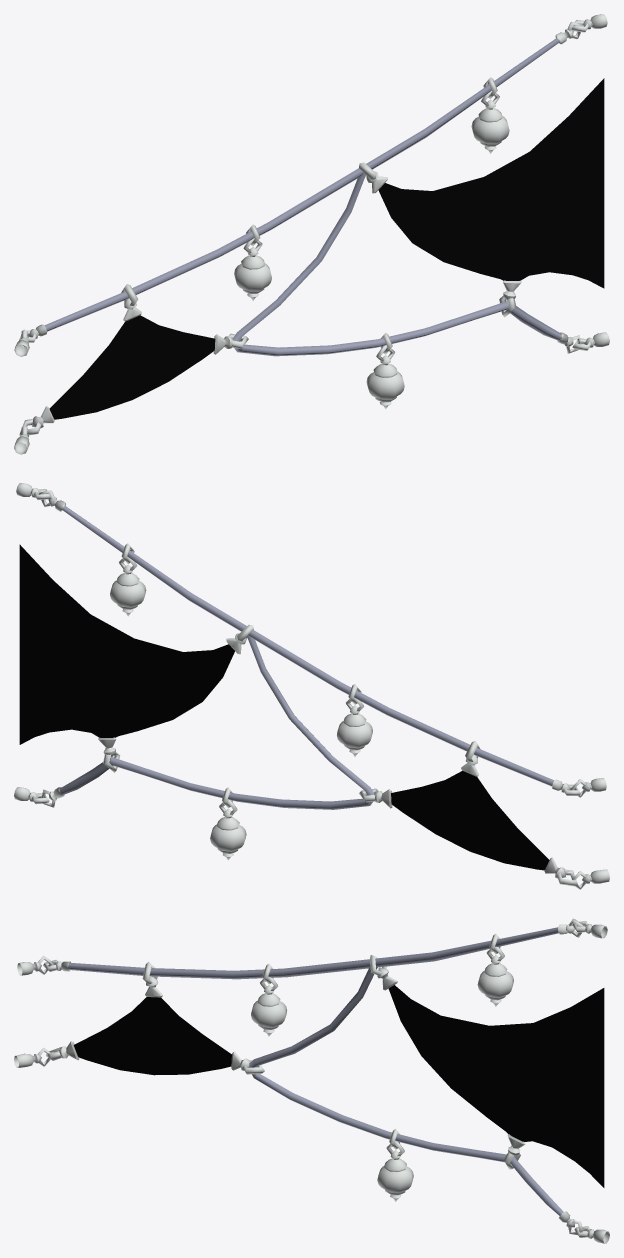
The picture shows the model from 3 angles, top to bottom: view 1: azimuth 30°, elevation 25°; view 2: azimuth 150°, elevation 25°; view 3: azimuth 330°, elevation 25°; orthographic projection. The views are drawn at different scales.
Visible parts, largest first — view 1: G:\FFXIV-MapTools\exports\m5f1\bg\ex4\02_mid_m5\fld\m5f1\bgp (×4); view 2: G:\FFXIV-MapTools\exports\m5f1\bg\ex4\02_mid_m5\fld\m5f1\bgp (×4); view 3: G:\FFXIV-MapTools\exports\m5f1\bg\ex4\02_mid_m5\fld\m5f1\bgp (×4).
Part boxes in pixels (left/top/right/bottom): G:\FFXIV-MapTools\exports\m5f1\bg\ex4\02_mid_m5\fld\m5f1\bgp (×4): left=14, top=14, right=609, bottom=454; G:\FFXIV-MapTools\exports\m5f1\bg\ex4\02_mid_m5\fld\m5f1\bgp (×4): left=14, top=483, right=609, bottom=889; G:\FFXIV-MapTools\exports\m5f1\bg\ex4\02_mid_m5\fld\m5f1\bgp (×4): left=14, top=918, right=609, bottom=1243.
Bounding box in the file's own units: 12.77 × 6.89 × 1.02.
